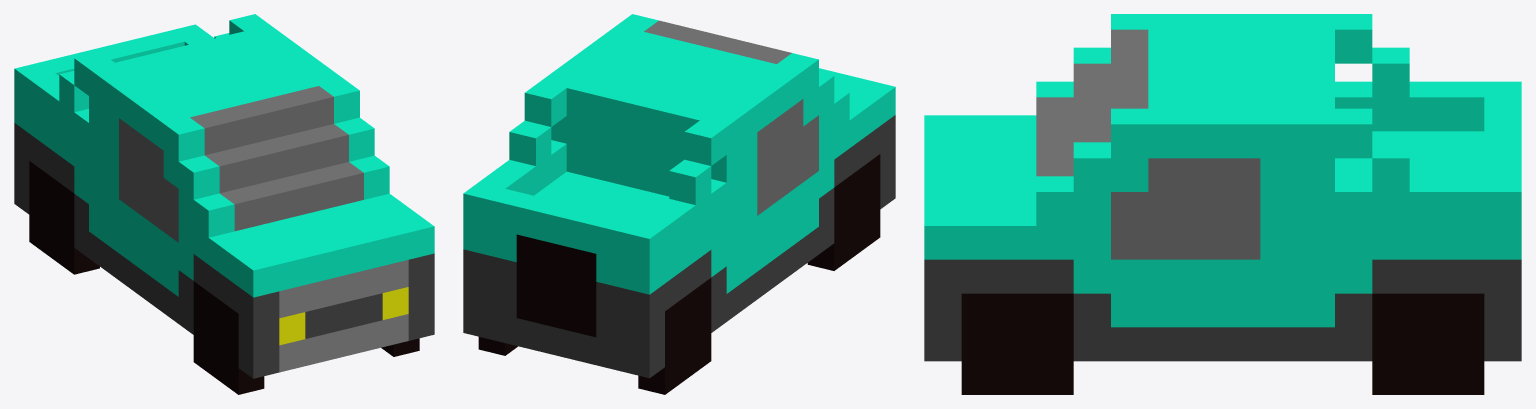
The model's file is CAR1.obj.
3 views of the same model, side by side, from view 1: azimuth 30°, elevation 25°; view 2: azimuth 150°, elevation 25°; view 3: azimuth 270°, elevation 25° (orthographic). The views are drawn at different scales.
Size of the model in its own units: 0.7 by 0.8 by 1.6.
Materials: 1 (1 with a texture image).
